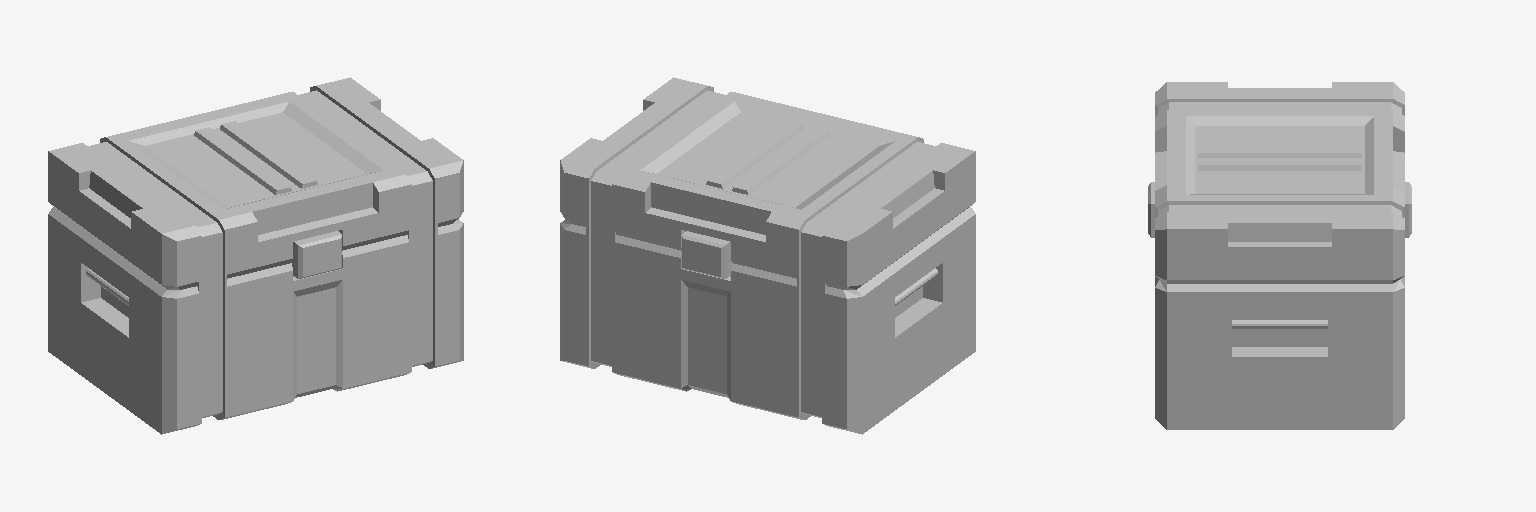
Rendered from Chest.obj.
3 renders of one model, left to right at view 1: azimuth 30°, elevation 25°; view 2: azimuth 150°, elevation 25°; view 3: azimuth 270°, elevation 25°, orthographic.
Parts seen in each view (by area): view 1: Chest_Cube.071; view 2: Chest_Cube.071; view 3: Chest_Cube.071.
Boxes of the visible parts, x1,y1,x2,y2 form: Chest_Cube.071: [48, 77, 463, 434]; Chest_Cube.071: [560, 77, 975, 434]; Chest_Cube.071: [1148, 82, 1411, 429].
Bounding box in the file's own units: 0.6396 × 0.4062 × 0.483.